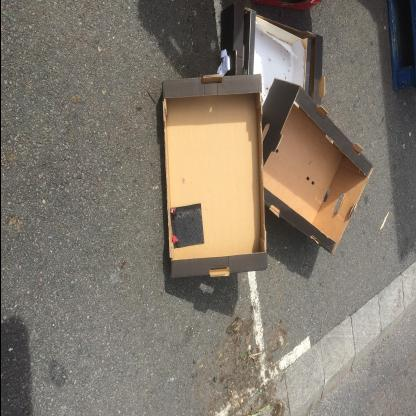karton: (158, 70, 266, 280), (260, 78, 373, 256), (219, 2, 324, 112)
